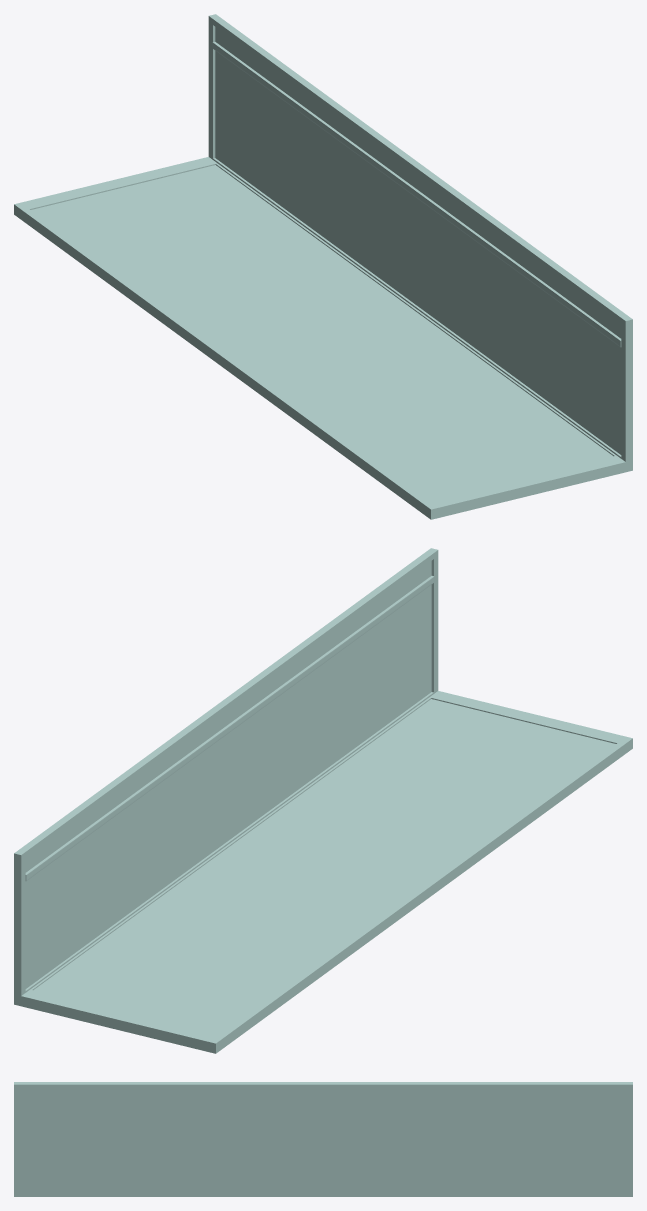
File: oda.fbx
3 renders of one model, top to bottom at view 1: azimuth 30°, elevation 25°; view 2: azimuth 150°, elevation 25°; view 3: azimuth 270°, elevation 25°, orthographic. The views are drawn at different scales.
Visible parts, largest first — view 1: Cube; view 2: Cube; view 3: Cube.
Part boxes in pixels (x1,y1,x2,y2): Cube: (14,14,632,519); Cube: (14,548,632,1053); Cube: (14,1082,632,1196).
Size of the model in its own units: 5589 by 4000 by 20000.
